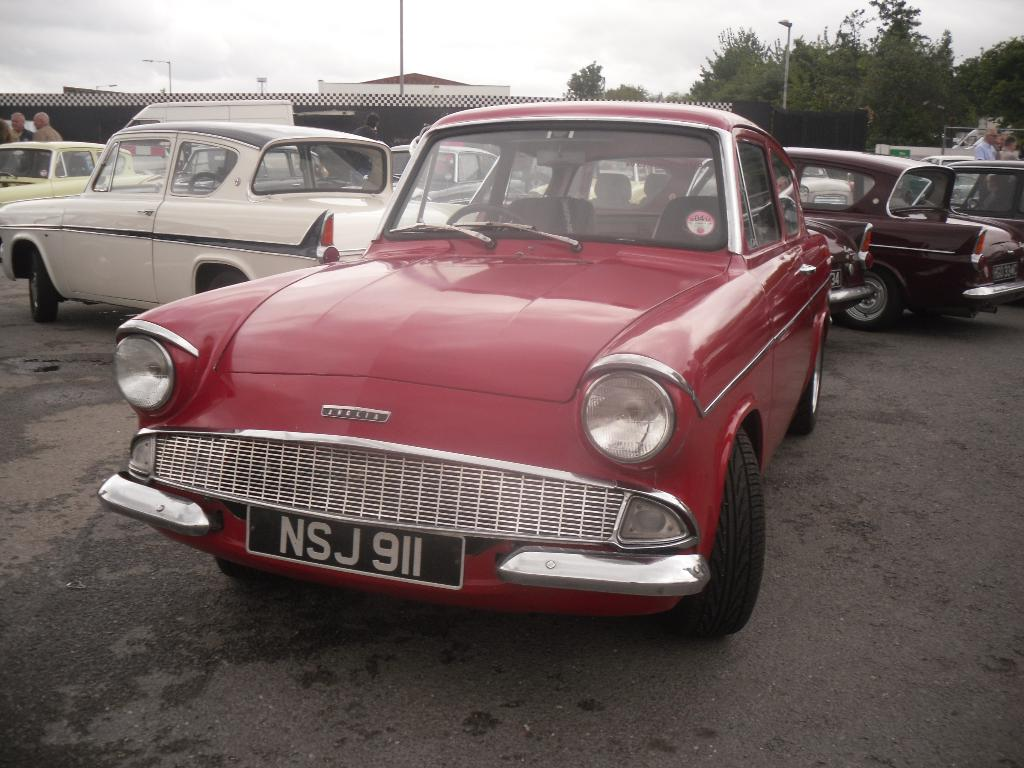Car: (0, 122, 1023, 333)
